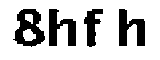8: (11, 7, 46, 51)
f: (82, 4, 105, 51)
h: (47, 4, 81, 52), (114, 5, 149, 51)
